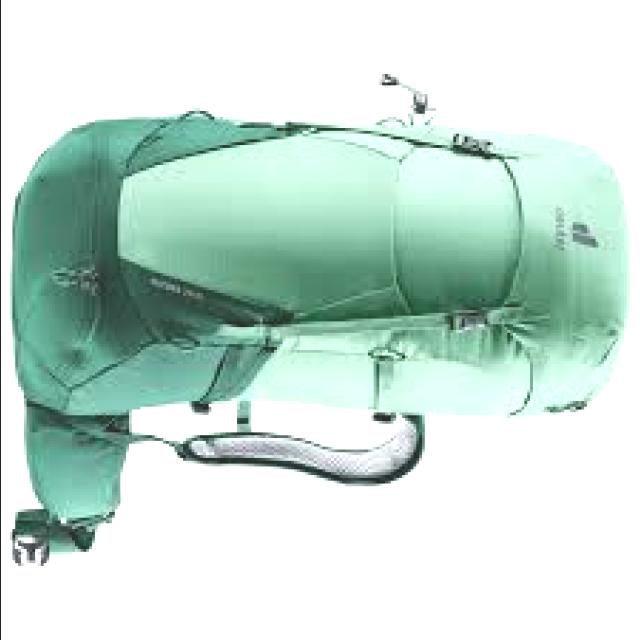backpack: (10, 72, 636, 567)
